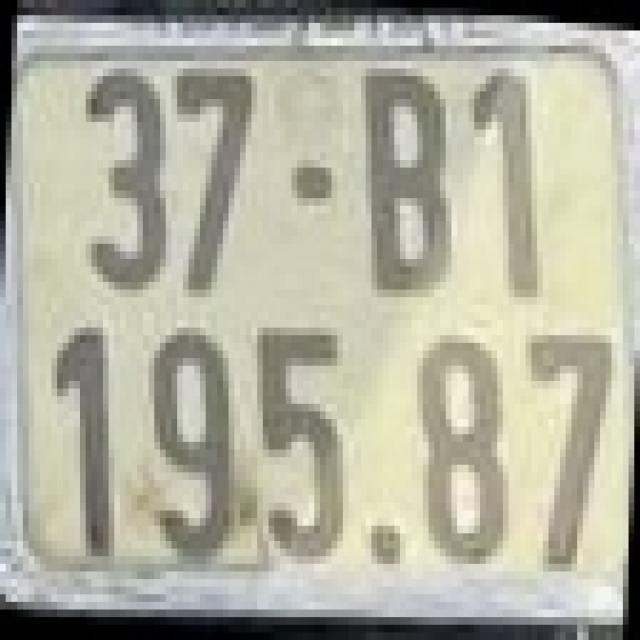1: (468, 61, 554, 297), (46, 320, 126, 564)
3: (80, 69, 172, 298)
5: (252, 320, 354, 564)
7: (526, 328, 618, 572), (172, 61, 258, 297)
8: (412, 320, 514, 564)
9: (143, 320, 240, 556)
B: (354, 61, 457, 297)
